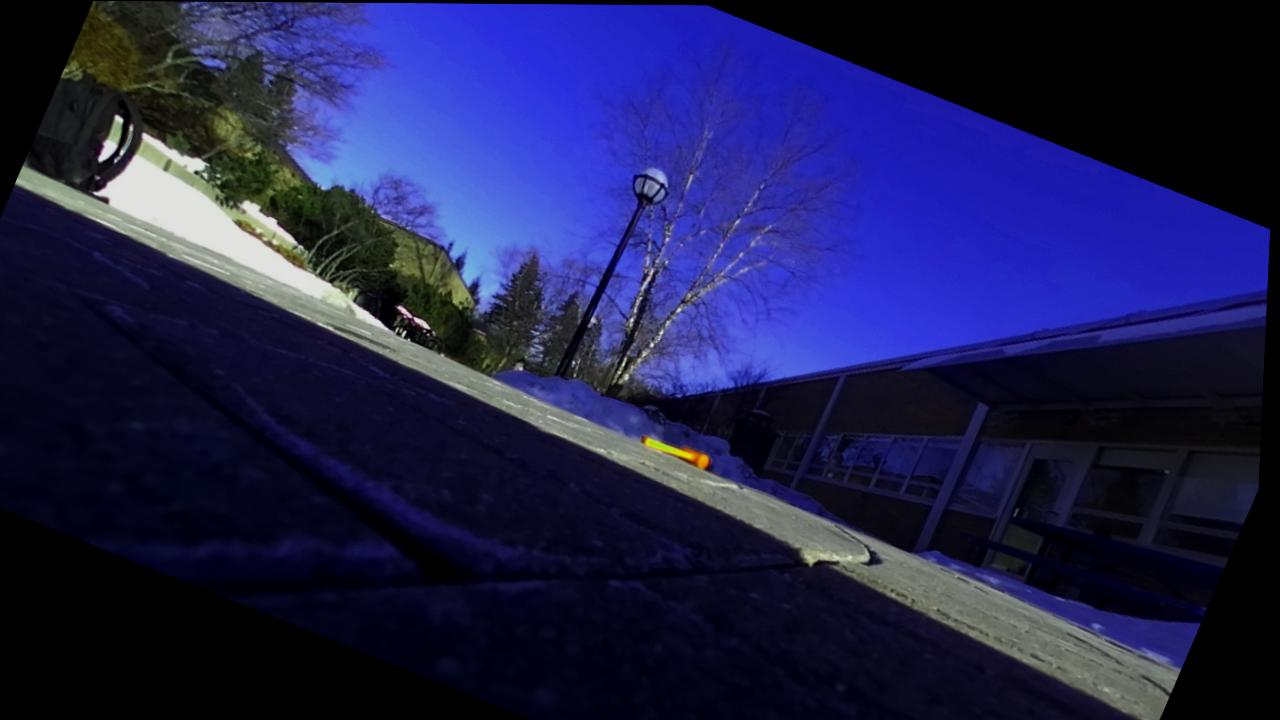mallet: (640, 436, 708, 469)
